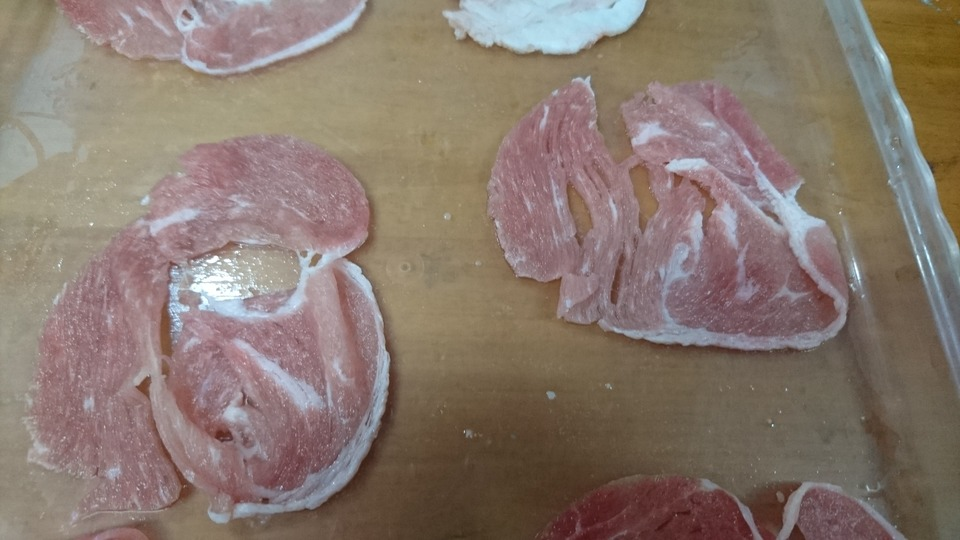restructured meat: (44, 133, 380, 517), (497, 70, 850, 350), (526, 454, 901, 538), (56, 1, 373, 73), (429, 2, 667, 59)
